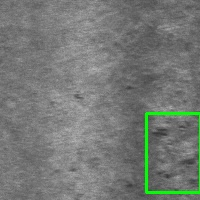rolled-in_scale: (146, 113, 200, 192)
